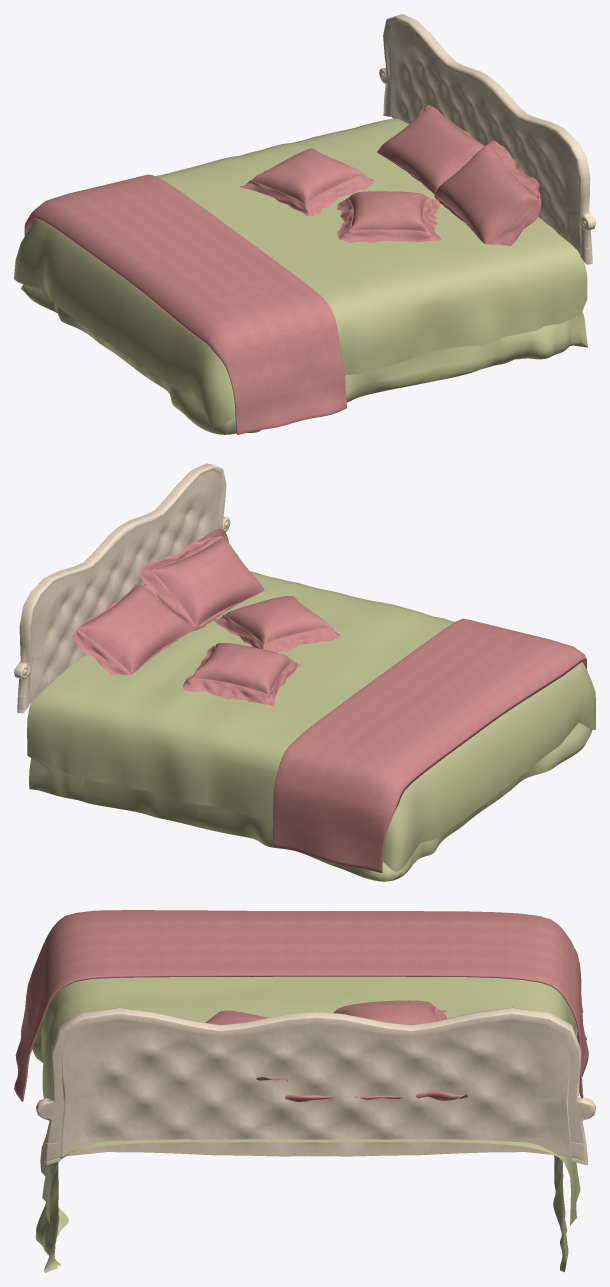
File: CW_chuang.fbx
The picture shows the model from 3 angles, top to bottom: view 1: azimuth 30°, elevation 25°; view 2: azimuth 150°, elevation 25°; view 3: azimuth 270°, elevation 25°; orthographic projection. The views are drawn at different scales.
Parts seen in each view (by area): view 1: CW_chuang; view 2: CW_chuang; view 3: CW_chuang.
Boxes of the visible parts, x1,y1,x2,y2 form: CW_chuang: (14, 14, 595, 434); CW_chuang: (14, 463, 595, 881); CW_chuang: (14, 910, 595, 1272).
Bounding box in the file's own units: 260 × 129 × 256.
